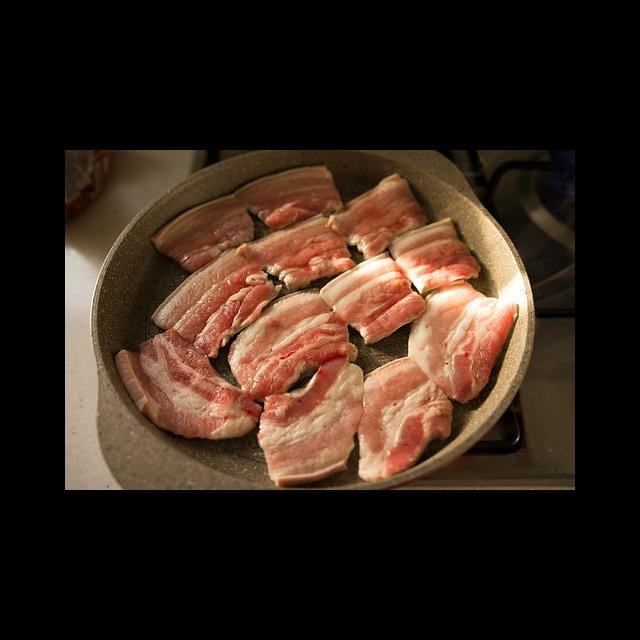pork: (118, 333, 252, 447), (155, 251, 275, 349), (239, 292, 351, 381), (324, 252, 423, 341), (151, 191, 246, 257), (338, 174, 418, 250), (240, 163, 340, 222), (403, 219, 483, 286)
